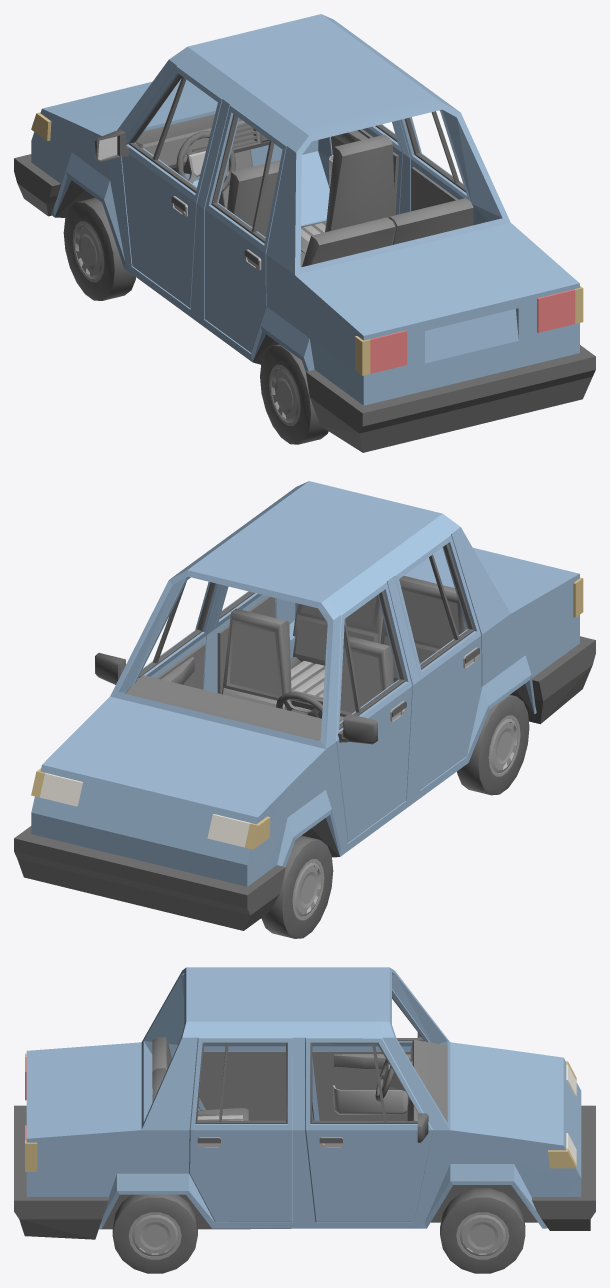
File: car-sedan.glb
3 views of the same model, one above another, from view 1: azimuth 30°, elevation 25°; view 2: azimuth 150°, elevation 25°; view 3: azimuth 270°, elevation 25° (orthographic). The views are drawn at different scales.
Visible parts, largest first — view 1: Chassis_Chassis_0, Chassis_Bumpers_0, Interior_InteriorPanel_0, FL_Door_Chassis_0, RL_Door_Chassis_0, FL_Wheel_Tire_0, RL_Wheel_Tire_0, Brake_Lights_Brake_lights_0, FL_Door_Bumpers_0, RL_Door_Bumpers_0, RL_Wheel_Rim_0, FL_Wheel_Rim_0 (+7 smaller); view 2: Chassis_Chassis_0, Chassis_Bumpers_0, Interior_InteriorPanel_0, FL_Door_Chassis_0, RL_Door_Chassis_0, Interior_Handler_0, FL_Wheel_Tire_0, RL_Wheel_Tire_0, FL_Door_Bumpers_0, Front_Lights_Front_lights_0, FR_Door_Bumpers_0, FR_Door_Chassis_0 (+7 smaller); view 3: Chassis_Chassis_0, FR_Door_Chassis_0, RR_Door_Chassis_0, Chassis_Bumpers_0, RL_Door_InteriorPanel_0, FR_Wheel_Tire_0, RR_Wheel_Tire_0, FL_Door_InteriorPanel_0, Interior_InteriorPanel_0, FR_Wheel_Rim_0, RR_Wheel_Rim_0, FL_Door_Handler_0 (+5 smaller).
Boxes of the visible parts, x1=… form: Chassis_Chassis_0: x1=31, y1=14, x2=579, y2=405; Chassis_Bumpers_0: x1=14, y1=154, x2=595, y2=452; Interior_InteriorPanel_0: x1=135, y1=114, x2=473, y2=267; FL_Door_Chassis_0: x1=121, y1=66, x2=222, y2=308; RL_Door_Chassis_0: x1=204, y1=105, x2=286, y2=352; FL_Wheel_Tire_0: x1=63, y1=197, x2=135, y2=300; RL_Wheel_Tire_0: x1=260, y1=344, x2=328, y2=444; Brake_Lights_Brake_lights_0: x1=370, y1=289, x2=575, y2=373; FL_Door_Bumpers_0: x1=95, y1=74, x2=196, y2=211; RL_Door_Bumpers_0: x1=211, y1=114, x2=274, y2=265; RL_Wheel_Rim_0: x1=269, y1=364, x2=300, y2=426; FL_Wheel_Rim_0: x1=72, y1=221, x2=104, y2=282; Chassis_Chassis_0: x1=31, y1=481, x2=579, y2=886; Chassis_Bumpers_0: x1=14, y1=636, x2=595, y2=930; Interior_InteriorPanel_0: x1=125, y1=576, x2=466, y2=741; FL_Door_Chassis_0: x1=336, y1=581, x2=412, y2=842; RL_Door_Chassis_0: x1=394, y1=534, x2=481, y2=789; Interior_Handler_0: x1=223, y1=620, x2=383, y2=722; FL_Wheel_Tire_0: x1=261, y1=835, x2=333, y2=938; RL_Wheel_Tire_0: x1=457, y1=695, x2=529, y2=795; FL_Door_Bumpers_0: x1=338, y1=591, x2=406, y2=744; Front_Lights_Front_lights_0: x1=40, y1=773, x2=250, y2=847; FR_Door_Bumpers_0: x1=95, y1=581, x2=215, y2=684; FR_Door_Chassis_0: x1=133, y1=576, x2=220, y2=689; Chassis_Chassis_0: x1=26, y1=967, x2=581, y2=1228; FR_Door_Chassis_0: x1=305, y1=1037, x2=432, y2=1222; RR_Door_Chassis_0: x1=189, y1=1037, x2=292, y2=1222; Chassis_Bumpers_0: x1=14, y1=1105, x2=595, y2=1239; RL_Door_InteriorPanel_0: x1=199, y1=1051, x2=285, y2=1120; FR_Wheel_Tire_0: x1=440, y1=1188, x2=525, y2=1273; RR_Wheel_Tire_0: x1=112, y1=1194, x2=197, y2=1273; FL_Door_InteriorPanel_0: x1=312, y1=1051, x2=412, y2=1120; Interior_InteriorPanel_0: x1=152, y1=1037, x2=447, y2=1122; FR_Wheel_Rim_0: x1=456, y1=1212, x2=509, y2=1259; RR_Wheel_Rim_0: x1=128, y1=1212, x2=181, y2=1259; FL_Door_Handler_0: x1=333, y1=1085, x2=408, y2=1114.
Size of the model in its own units: 2.09 by 2 by 4.5.
